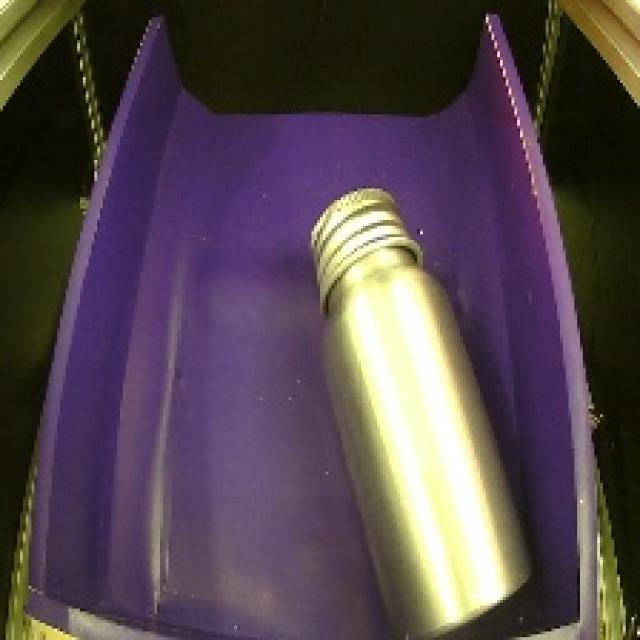metal: (290, 169, 550, 640)
